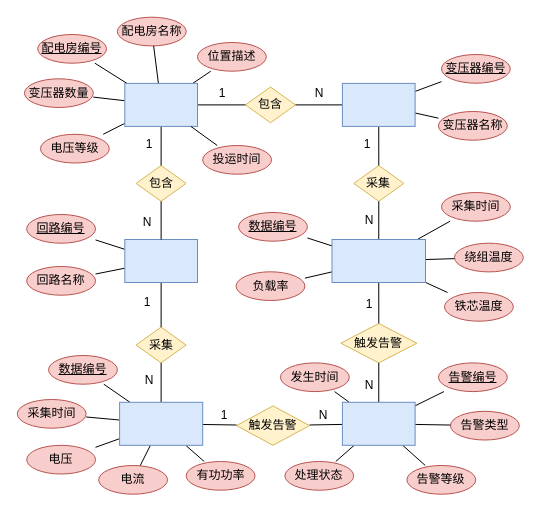
Image size: 541x512. Some labels were removed from this diagram. The shapes that lost their labels are listed below. From the top down, each one's centre as x and y in pixels, then its label:
At (161,104): "配电房".
At (378,104): "变压器".
At (161,260): "回路数据".
At (378,260): "变压器监测数据".
At (161,423): "回路监测数据".
At (378,423): "告警信息".
